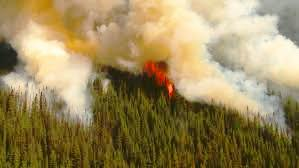fire: (132, 58, 190, 107)
smoke: (35, 80, 108, 127), (217, 90, 293, 135)
